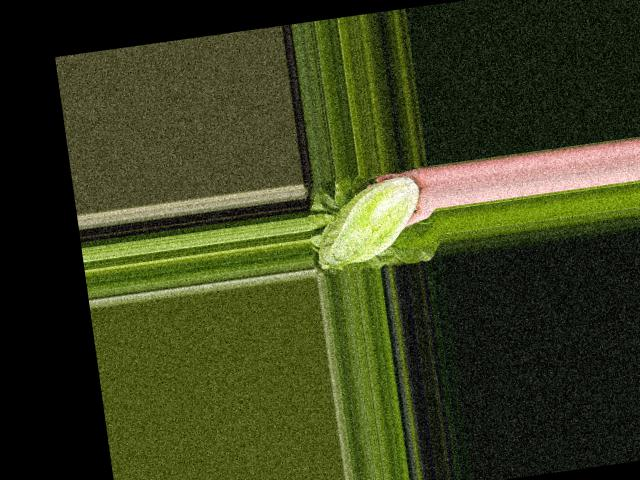lettuce: (308, 171, 429, 271)
